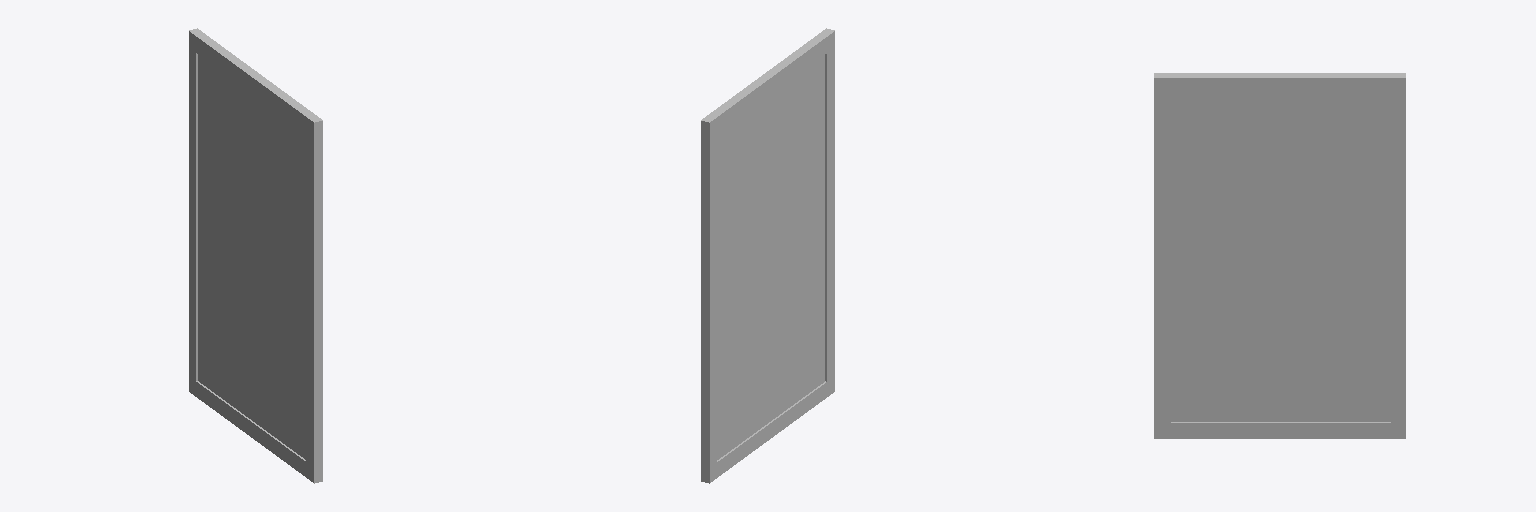
File: chalkboard.obj
The picture shows the model from 3 angles: view 1: azimuth 30°, elevation 25°; view 2: azimuth 150°, elevation 25°; view 3: azimuth 270°, elevation 25°; orthographic projection.
Parts seen in each view (by area): view 1: Cube_Cube; view 2: Cube_Cube; view 3: Cube_Cube.
Boxes of the visible parts, x1,y1,x2,y2 form: Cube_Cube: [189, 28, 322, 483]; Cube_Cube: [701, 28, 834, 483]; Cube_Cube: [1154, 73, 1405, 438].
Size of the model in its own units: 0.069 by 2.6 by 1.64.